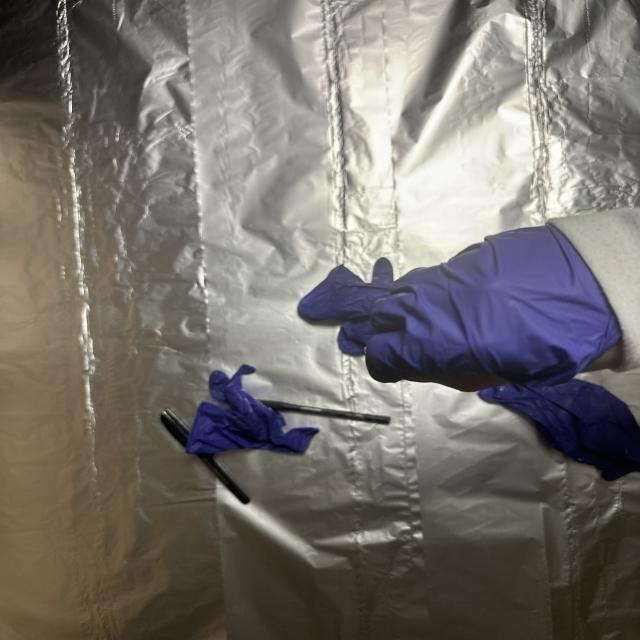glove_partial: (362, 212, 640, 382)
